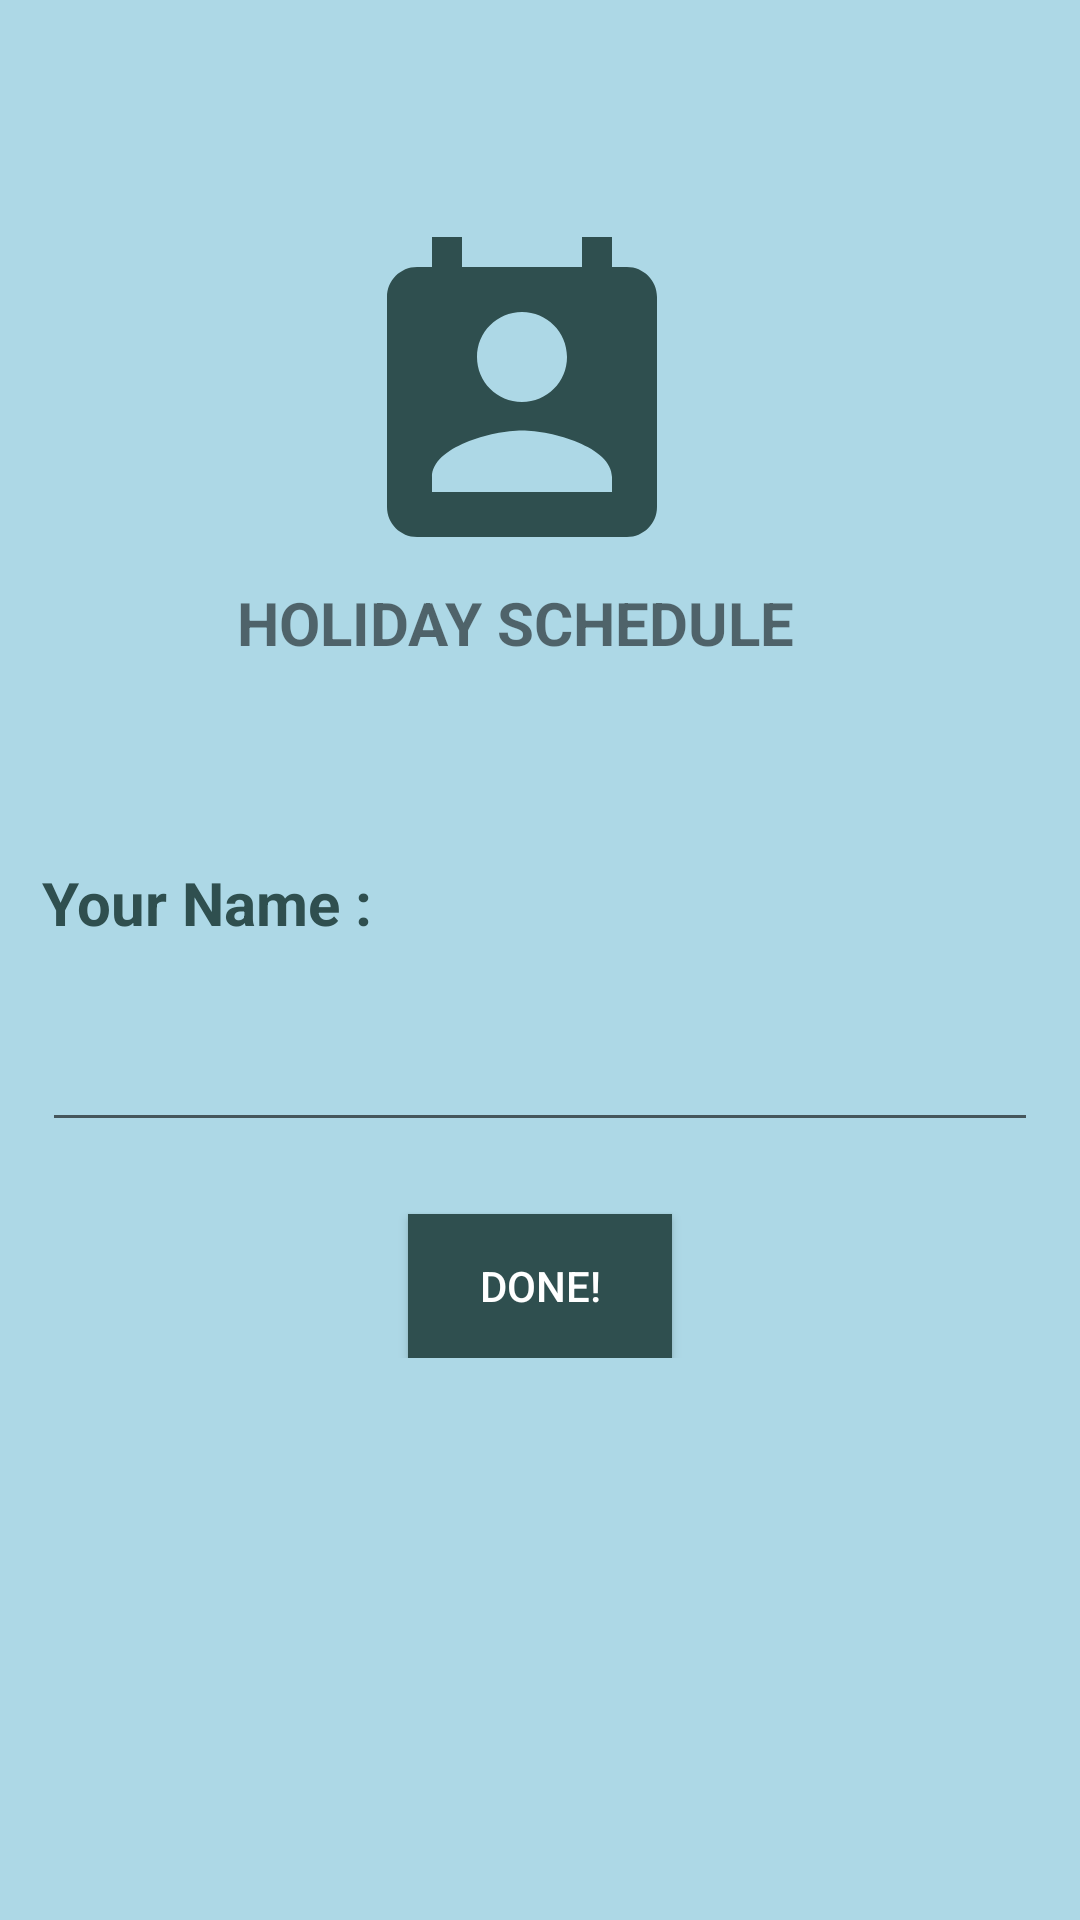

Icon bounding boxes for this 1080px×1920px phone screenshot, format (x1, y1, x2, y2):
perm contact calendar: (387, 237, 657, 537)
